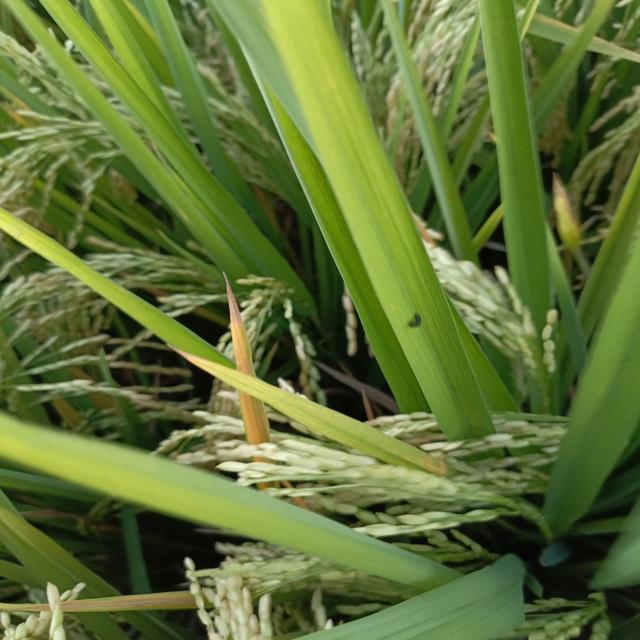Brown spot: (218, 278, 279, 446), (8, 588, 212, 620), (313, 353, 397, 420), (543, 172, 584, 252), (243, 171, 284, 239), (404, 206, 440, 250)
